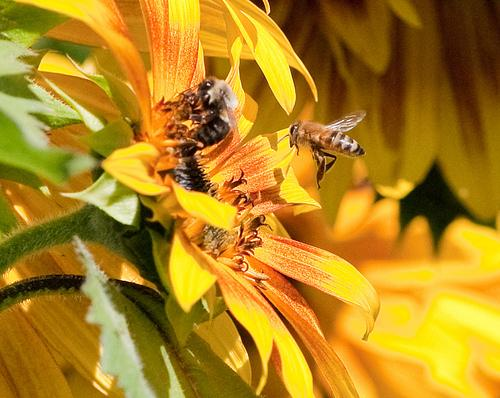sunflower: (11, 0, 383, 398)
